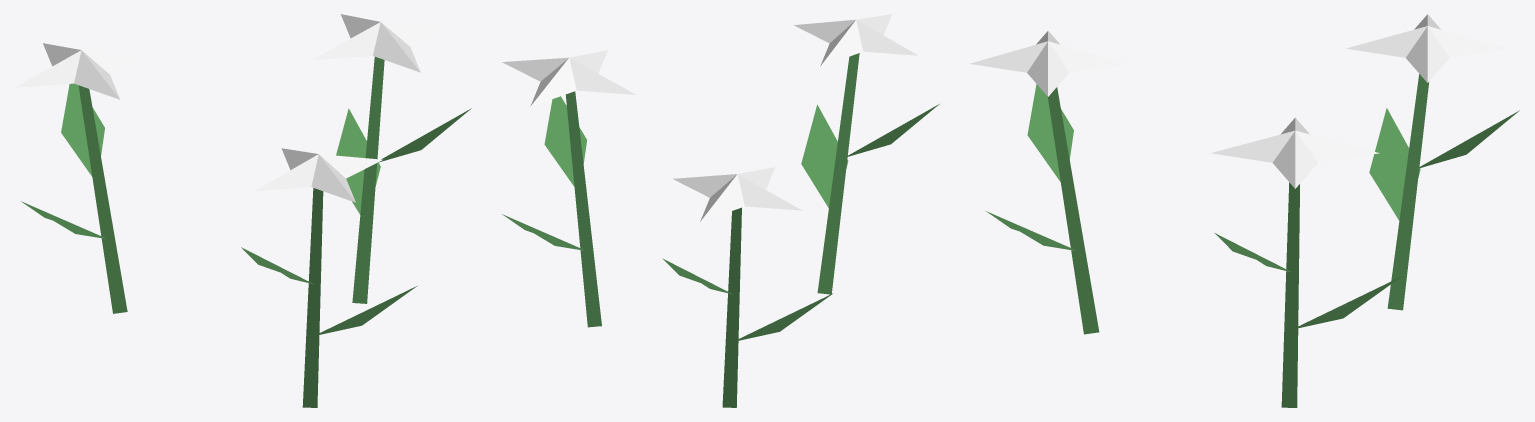
The model's file is flowers_spring_01.glb.
3 renders of one model, left to right at view 1: azimuth 30°, elevation 25°; view 2: azimuth 150°, elevation 25°; view 3: azimuth 270°, elevation 25°, orthographic. The views are drawn at different scales.
Parts seen in each view (by area): view 1: Flowers_spring_01; view 2: Flowers_spring_01; view 3: Flowers_spring_01.
Boxes of the visible parts, bbox=[...] form: Flowers_spring_01: bbox=[15, 14, 471, 407]; Flowers_spring_01: bbox=[502, 14, 939, 407]; Flowers_spring_01: bbox=[969, 14, 1519, 407].
Bounding box in the file's own units: 0.4715 × 0.3177 × 0.5509.
